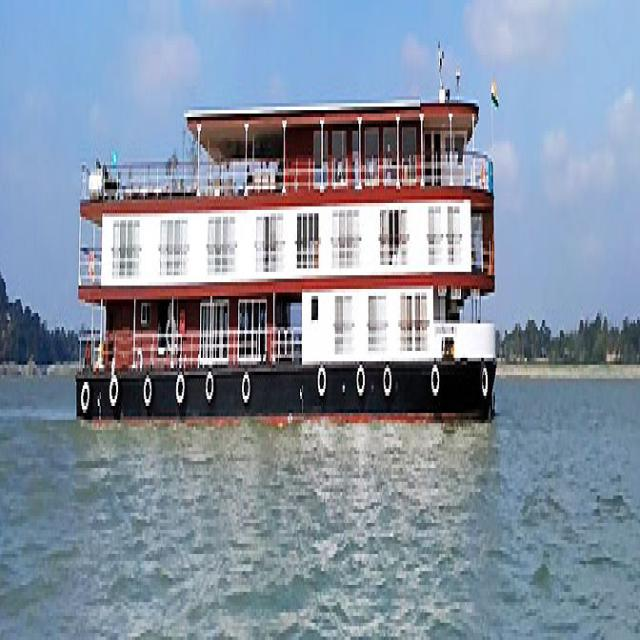passenger ship: (72, 37, 508, 468)
